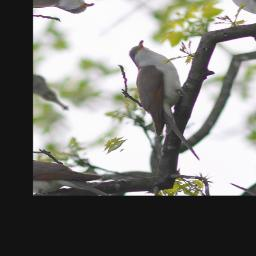Cuckoo: (83, 39, 255, 166)
